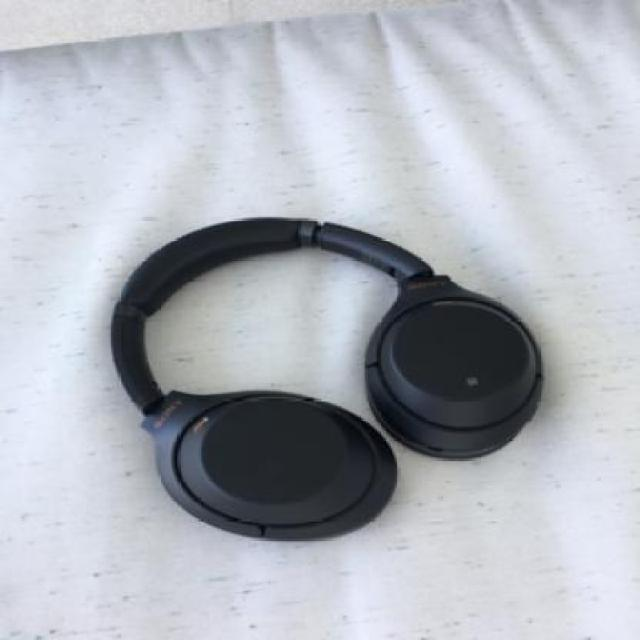earphone: (35, 166, 565, 532)
